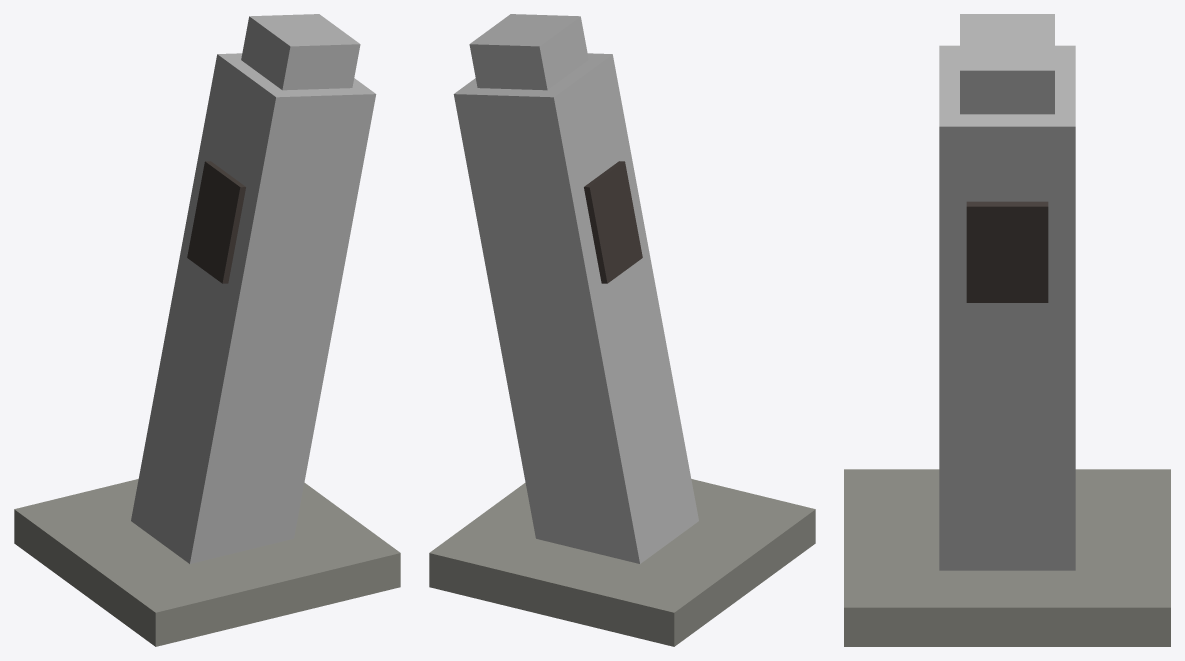
File: SM_poste_km_v1_LOD0.fbx
3 views of the same model, side by side, from view 1: azimuth 30°, elevation 25°; view 2: azimuth 150°, elevation 25°; view 3: azimuth 270°, elevation 25° (orthographic). The views are drawn at different scales.
Visible parts, largest first — view 1: SM_bloques.poste_km_v1_LOD0; view 2: SM_bloques.poste_km_v1_LOD0; view 3: SM_bloques.poste_km_v1_LOD0.
Boxes of the visible parts, left/top/right/bottom form: SM_bloques.poste_km_v1_LOD0: left=14, top=14, right=400, bottom=646; SM_bloques.poste_km_v1_LOD0: left=429, top=14, right=815, bottom=646; SM_bloques.poste_km_v1_LOD0: left=844, top=14, right=1170, bottom=646.
Bounding box in the file's own units: 0.641 × 1.22 × 0.6.
